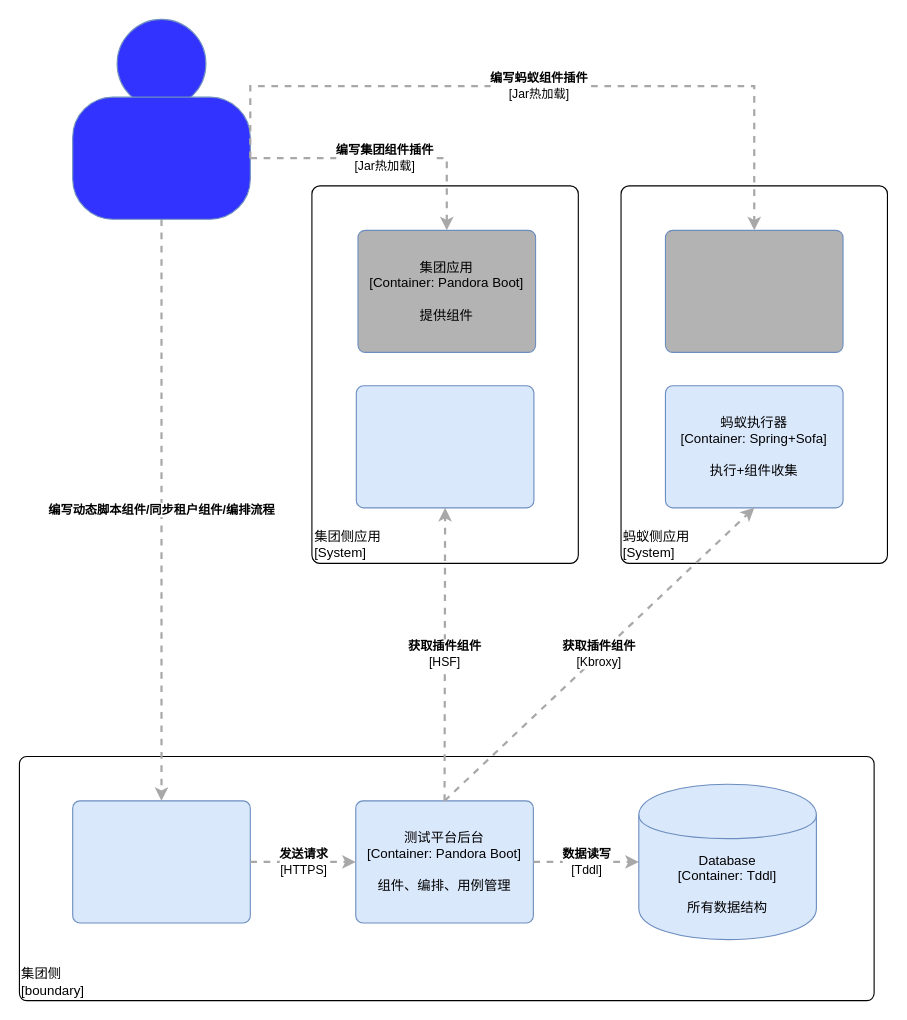
The diagram is 907 pixels wide and 1020 high, and some of its shapes have lost their labels. Each missing label, with the centre of its shape:
测试平台页面 [Container: Pending ] 页面展示: the point at 161,861
用户 [Person] 组件/工具开发: the point at 161,157
蚂蚁应用 [Container: Sofa Boot ] 提供组件: the point at 753,290
集团执行器 [Container: Spring+Pandora ] 执行+组件收集: the point at 444,446
